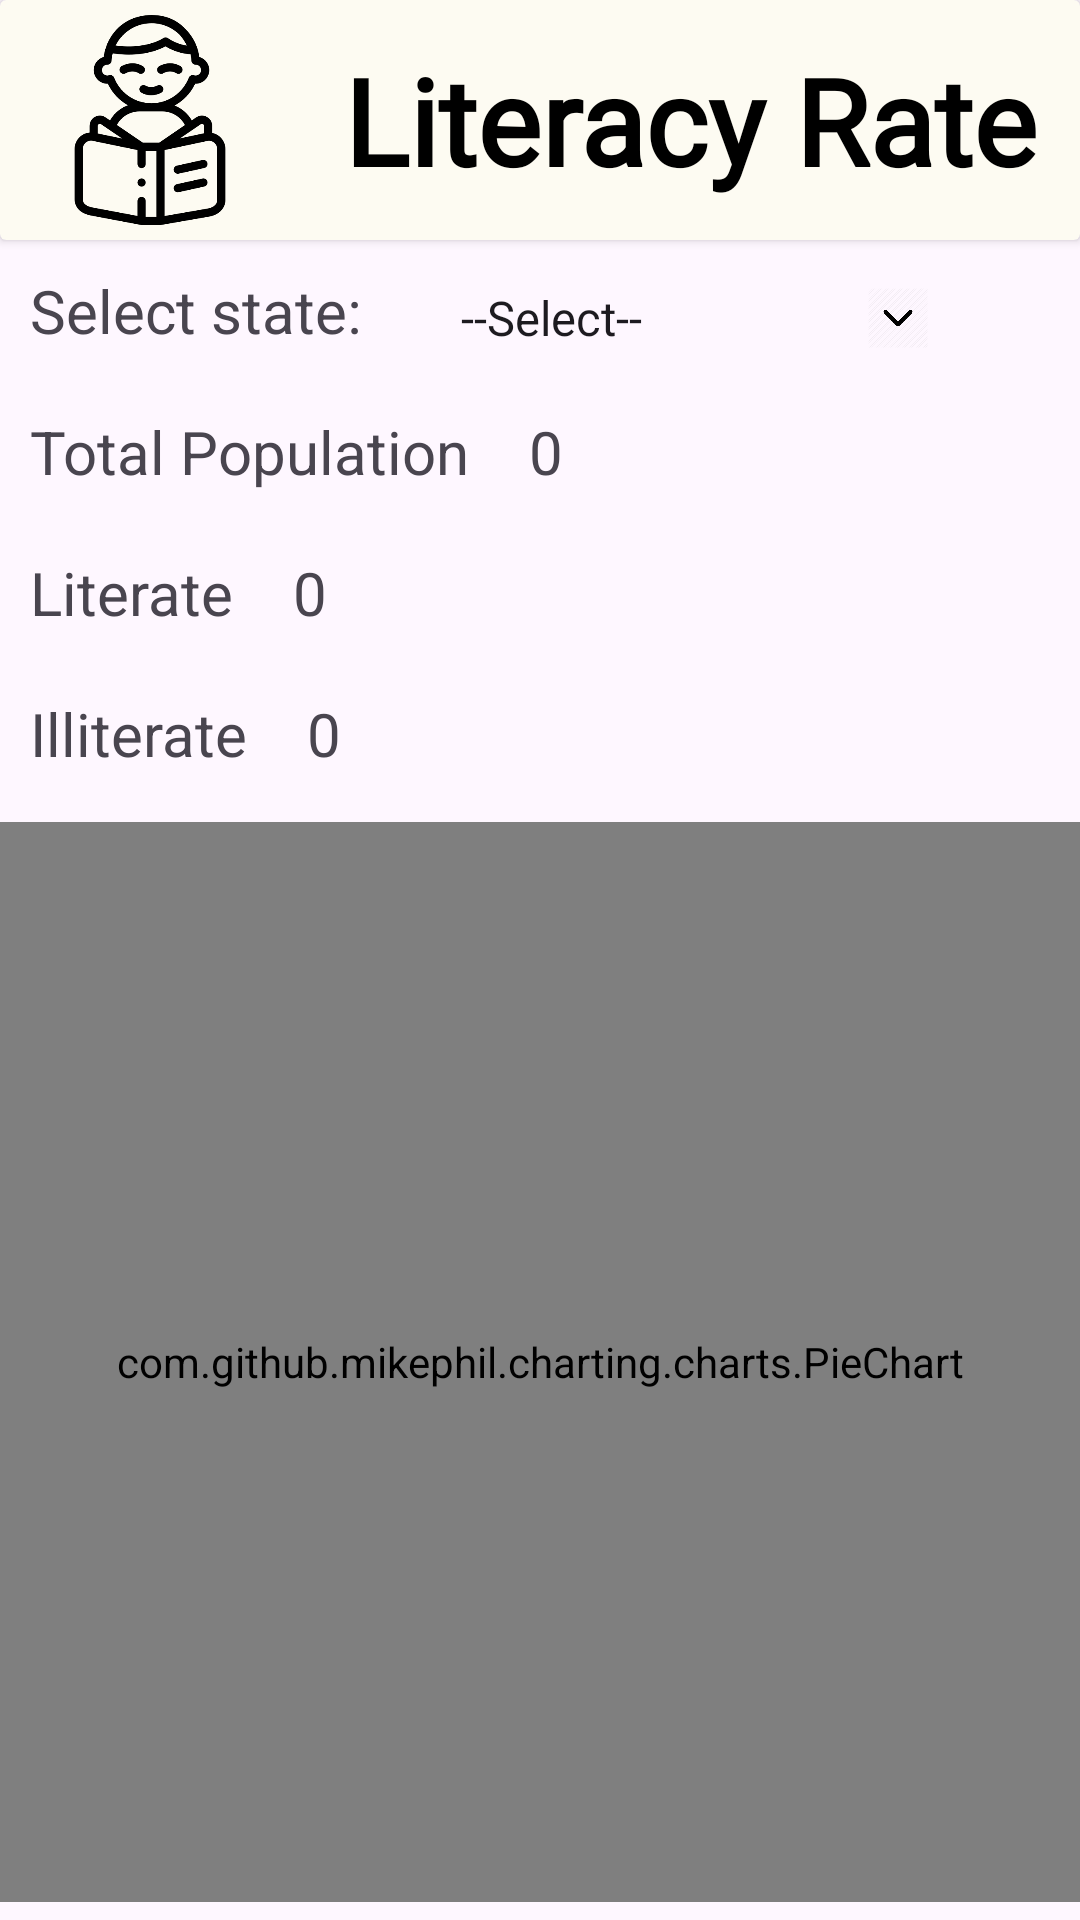

Named icons in this screenshot (1080×1920) and their centers, [x,y]:
drop down: [898,318]
